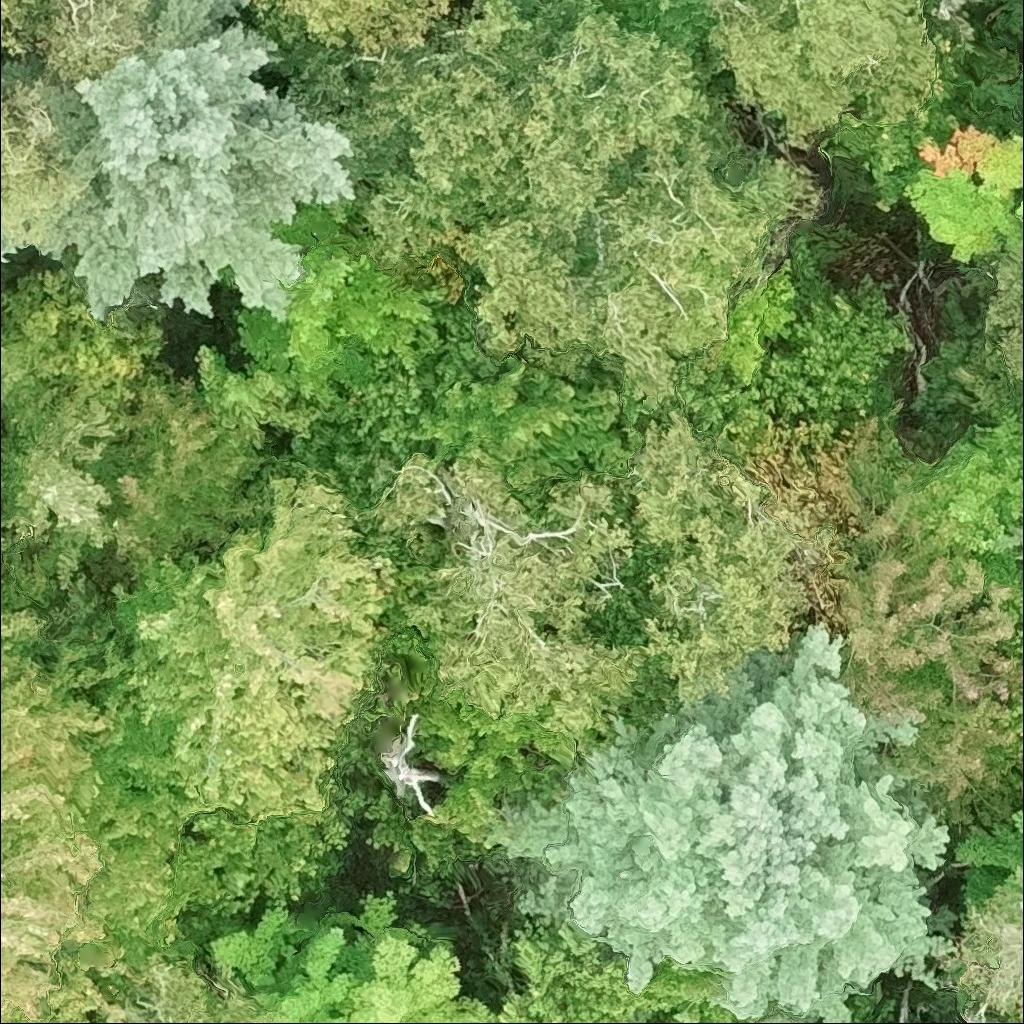crown: (269, 0, 829, 423), (492, 622, 962, 1023), (89, 465, 424, 834), (0, 0, 360, 326), (368, 447, 645, 764), (0, 639, 193, 1023), (837, 470, 1023, 849), (620, 404, 813, 719), (232, 199, 450, 409), (82, 372, 267, 584), (710, 0, 945, 146), (412, 360, 641, 484), (411, 681, 577, 852), (337, 297, 510, 460), (758, 268, 920, 425), (913, 408, 1023, 625), (330, 888, 501, 1023), (209, 898, 368, 1023), (899, 123, 1023, 266), (177, 811, 272, 978), (193, 344, 343, 447), (499, 920, 644, 1023), (252, 784, 370, 905), (703, 251, 801, 386), (246, 0, 455, 55), (0, 80, 65, 242), (137, 950, 273, 1023), (355, 789, 456, 879), (31, 0, 149, 76), (953, 801, 1023, 899), (977, 246, 1023, 377), (0, 605, 46, 666), (927, 0, 984, 48), (0, 0, 37, 61), (991, 525, 1023, 557), (1022, 57, 1023, 60), (1022, 84, 1023, 86)
